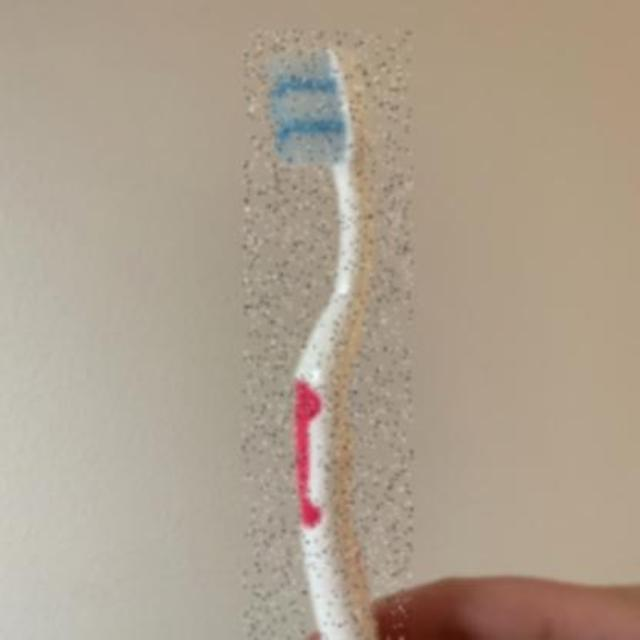toothbrush: (243, 31, 412, 640)
